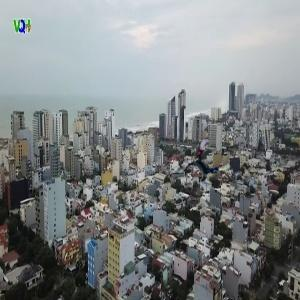drone: (187, 142, 229, 184)
